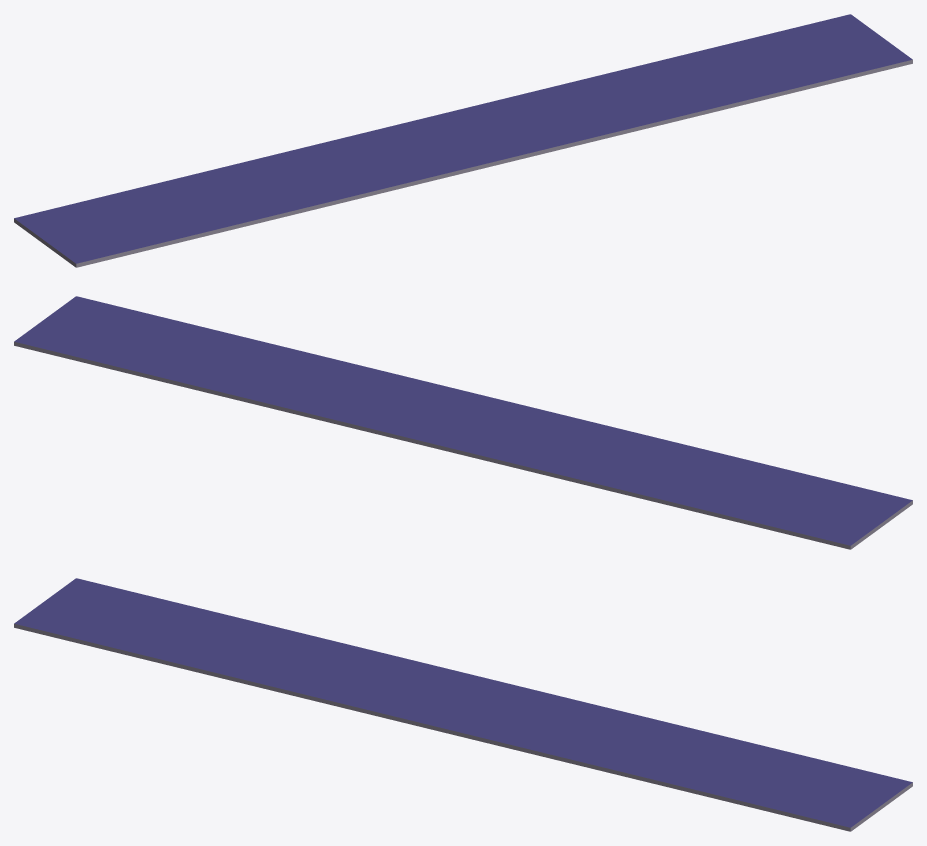
Rendered from PanelSuperior30m.glb.
The picture shows the model from 3 angles, top to bottom: view 1: azimuth 30°, elevation 25°; view 2: azimuth 150°, elevation 25°; view 3: azimuth 330°, elevation 25°; orthographic projection.
Visible parts, largest first — view 1: Cube; view 2: Cube; view 3: Cube.
Boxes of the visible parts, x1,y1,x2,y2 form: Cube: (14, 14, 912, 267); Cube: (14, 296, 912, 549); Cube: (14, 578, 912, 831).
Bounding box in the file's own units: 29.97 × 0.3994 × 3.86.
